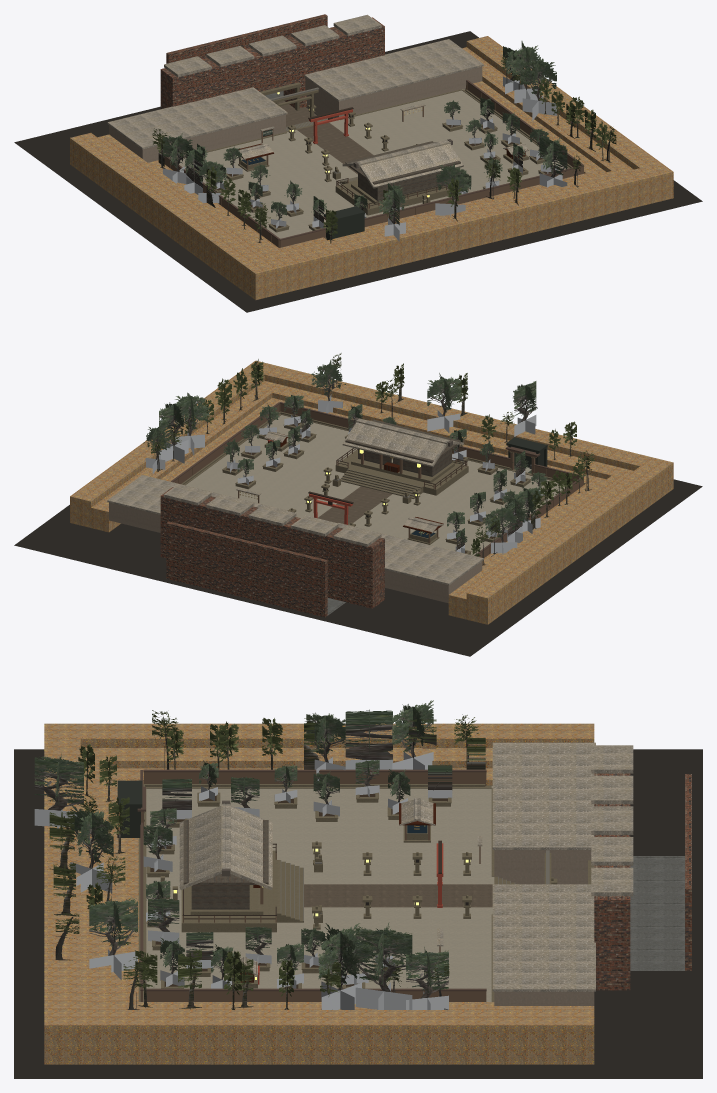
Rendered from domino-shrine.glb.
3 views of the same model, one above another, from view 1: azimuth 30°, elevation 25°; view 2: azimuth 150°, elevation 25°; view 3: azimuth 270°, elevation 25° (orthographic). The views are drawn at different scales.
Parts seen in each view (by area): view 1: bake:forest_floor:bank, bake:roof_slates_02:roof_tile, bake:gravel_floor_02:gravel, bake:picture:cutout:billboard-tree_small_02.png, bake:plain:base, bake:brick_wall_001:brick, bake:painted_plaster_wall:plaster, bake:concrete_wall_007:stone, bake:picture:cutout:billboard-fir_a.png, bake:plain:post, bake:dark_wooden_planks:hall_wood, bake:herringbone_pavement:sando (+3 smaller); view 2: bake:forest_floor:bank, bake:brick_wall_001:brick, bake:plain:base, bake:picture:cutout:billboard-tree_small_02.png, bake:gravel_floor_02:gravel, bake:roof_slates_02:roof_tile, bake:concrete_wall_007:stone, bake:picture:cutout:billboard-fir_a.png, bake:plain:post, bake:painted_plaster_wall:plaster, bake:dark_wooden_planks:hall_wood, bake:picture:cutout:billboard-fir_b.png (+3 smaller); view 3: bake:forest_floor:bank, bake:plain:base, bake:picture:cutout:billboard-tree_small_02.png, bake:roof_slates_02:roof_tile, bake:gravel_floor_02:gravel, bake:concrete_wall_007:stone, bake:picture:cutout:billboard-fir_a.png, bake:asphalt_02:road, bake:plain:post, bake:brick_wall_001:brick, bake:painted_plaster_wall:plaster, bake:herringbone_pavement:sando (+5 smaller).
Boxes of the visible parts, bbox=[...] form: bake:forest_floor:bank: bbox=[70, 36, 673, 300]; bake:roof_slates_02:roof_tile: bbox=[107, 14, 529, 188]; bake:gravel_floor_02:gravel: bbox=[175, 89, 568, 238]; bake:picture:cutout:billboard-tree_small_02.png: bbox=[163, 41, 567, 241]; bake:plain:base: bbox=[14, 31, 702, 312]; bake:brick_wall_001:brick: bbox=[160, 14, 384, 108]; bake:painted_plaster_wall:plaster: bbox=[109, 66, 482, 162]; bake:concrete_wall_007:stone: bbox=[177, 82, 584, 239]; bake:picture:cutout:billboard-fir_a.png: bbox=[157, 77, 609, 243]; bake:plain:post: bbox=[163, 82, 583, 247]; bake:dark_wooden_planks:hall_wood: bbox=[345, 141, 460, 200]; bake:herringbone_pavement:sando: bbox=[297, 122, 373, 174]; bake:forest_floor:bank: bbox=[70, 360, 673, 624]; bake:brick_wall_001:brick: bbox=[160, 487, 384, 617]; bake:plain:base: bbox=[14, 479, 702, 656]; bake:picture:cutout:billboard-tree_small_02.png: bbox=[143, 360, 547, 554]; bake:gravel_floor_02:gravel: bbox=[186, 415, 564, 555]; bake:roof_slates_02:roof_tile: bbox=[107, 418, 483, 585]; bake:concrete_wall_007:stone: bbox=[181, 411, 572, 554]; bake:picture:cutout:billboard-fir_a.png: bbox=[185, 361, 585, 556]; bake:plain:post: bbox=[173, 404, 583, 557]; bake:painted_plaster_wall:plaster: bbox=[109, 502, 482, 603]; bake:dark_wooden_planks:hall_wood: bbox=[345, 419, 460, 476]; bake:picture:cutout:billboard-fir_b.png: bbox=[151, 353, 594, 565]; bake:forest_floor:bank: bbox=[44, 723, 594, 1064]; bake:plain:base: bbox=[14, 749, 702, 1078]; bake:picture:cutout:billboard-tree_small_02.png: bbox=[34, 700, 452, 1009]; bake:roof_slates_02:roof_tile: bbox=[179, 742, 633, 991]; bake:gravel_floor_02:gravel: bbox=[146, 786, 494, 1001]; bake:concrete_wall_007:stone: bbox=[138, 784, 594, 1001]; bake:picture:cutout:billboard-fir_a.png: bbox=[49, 718, 485, 1009]; bake:asphalt_02:road: bbox=[630, 856, 684, 970]; bake:plain:post: bbox=[140, 772, 486, 1001]; bake:brick_wall_001:brick: bbox=[594, 773, 691, 990]; bake:painted_plaster_wall:plaster: bbox=[494, 850, 594, 1005]; bake:herringbone_pavement:sando: bbox=[304, 884, 492, 907].
Bounding box in the file's own units: 86 × 15.2 × 76.01.
45 materials, 14 textured.
